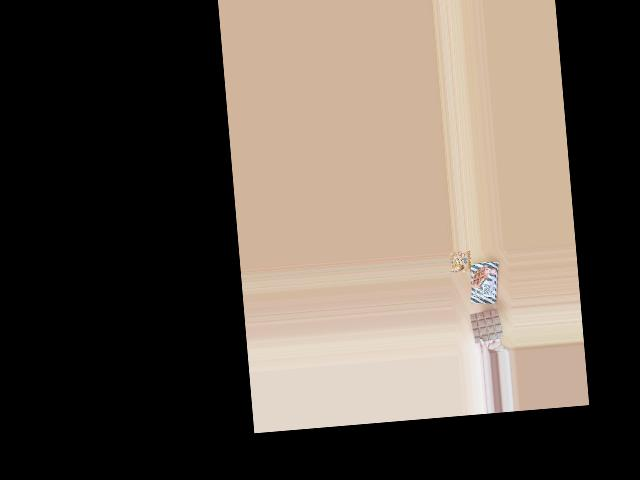chocolate: (468, 259, 501, 307)
